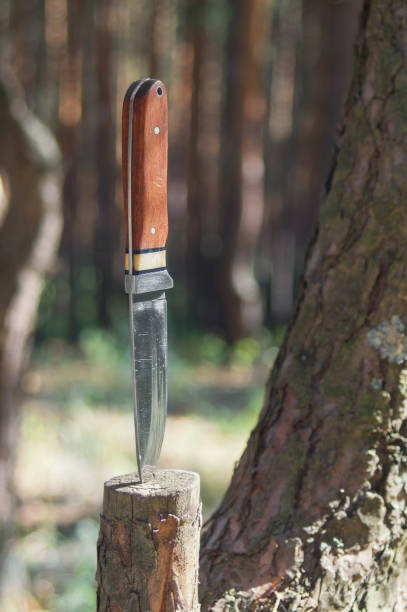knife: (114, 68, 179, 491)
